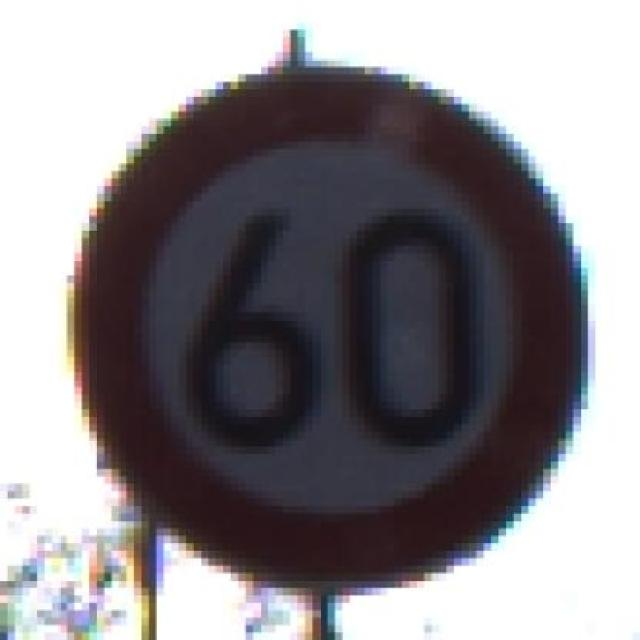forb_speed_over_60: (82, 64, 589, 591)
